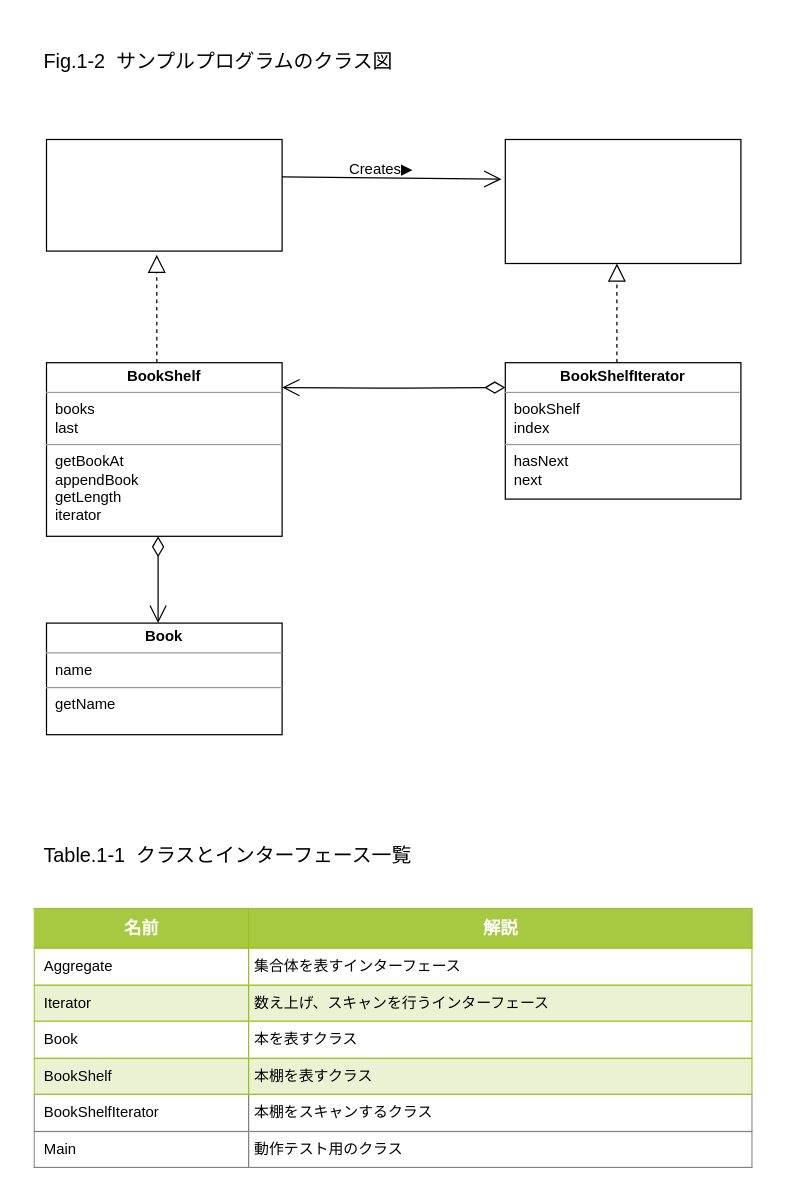
Image size: 786x1190. Some labels were removed from this diagram. Here are the shapes that lost their labels. From the top down, the centre of each, then its label:
the point at 163,194: << Interface >> Aggregate iterator
the point at 622,201: << Interface >> Iterator hasNext next
